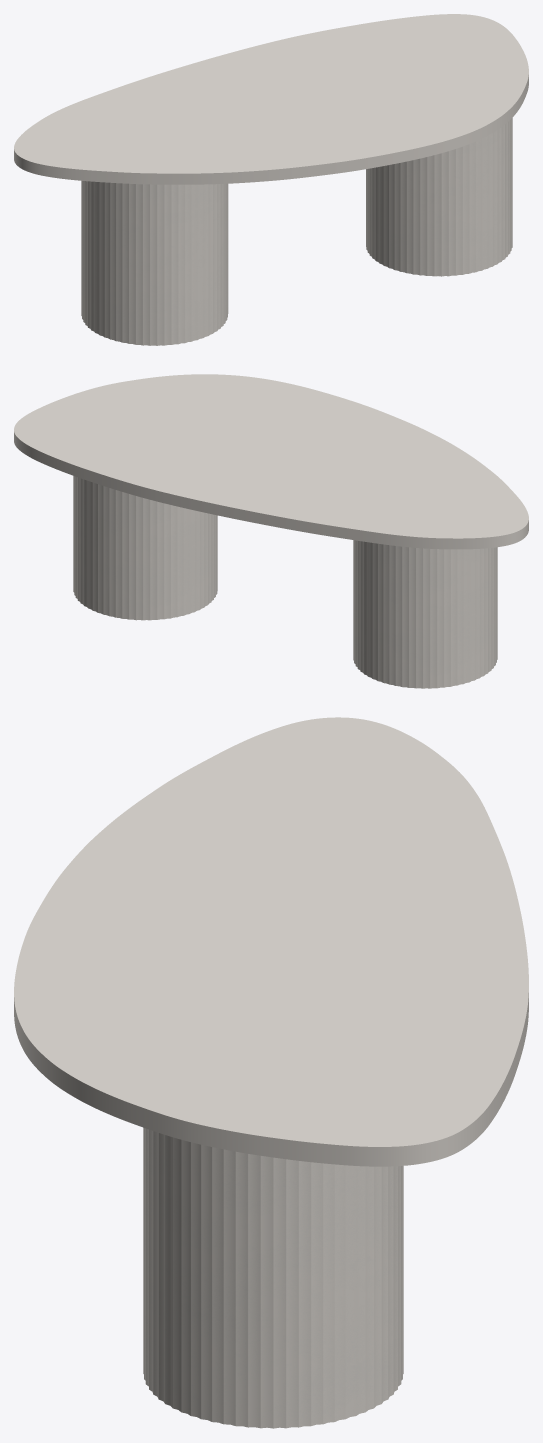
Rendered from pearlwhite_pebbletop_standard_ripplesecond.glb.
3 views of the same model, one above another, from view 1: azimuth 30°, elevation 25°; view 2: azimuth 150°, elevation 25°; view 3: azimuth 270°, elevation 25° (orthographic). The views are drawn at different scales.
Parts seen in each view (by area): view 1: standard_pebbletop, ripplesecond; view 2: standard_pebbletop, ripplesecond; view 3: standard_pebbletop, ripplesecond.
Boxes of the visible parts, x1=… form: standard_pebbletop: x1=14, y1=14, x2=528, y2=184; ripplesecond: x1=81, y1=118, x2=512, y2=345; standard_pebbletop: x1=14, y1=374, x2=528, y2=549; ripplesecond: x1=73, y1=476, x2=497, y2=688; standard_pebbletop: x1=14, y1=717, x2=528, y2=1166; ripplesecond: x1=143, y1=1127, x2=403, y2=1428.
Size of the model in its own units: 7.5 by 2.51 by 3.8.
1 material, 1 textured.
